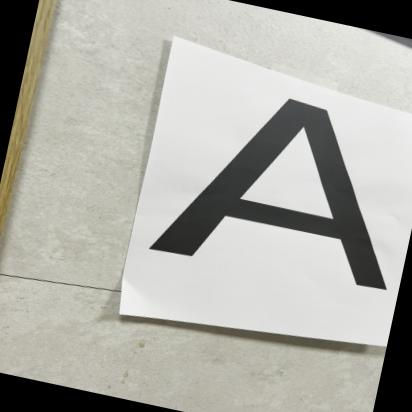seat: (115, 63, 412, 352)
